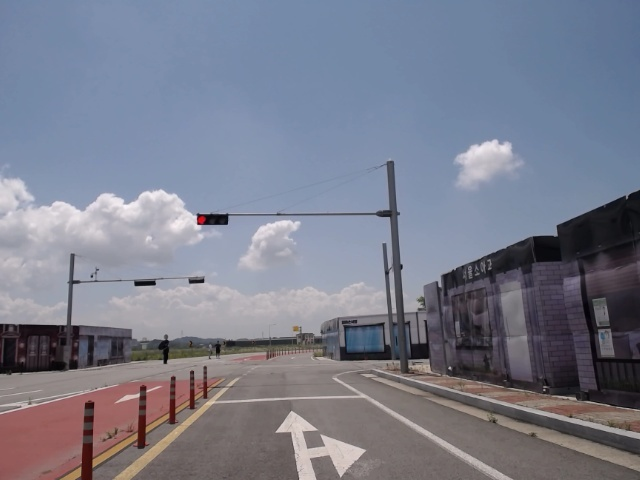red_3: (196, 215, 229, 226)
